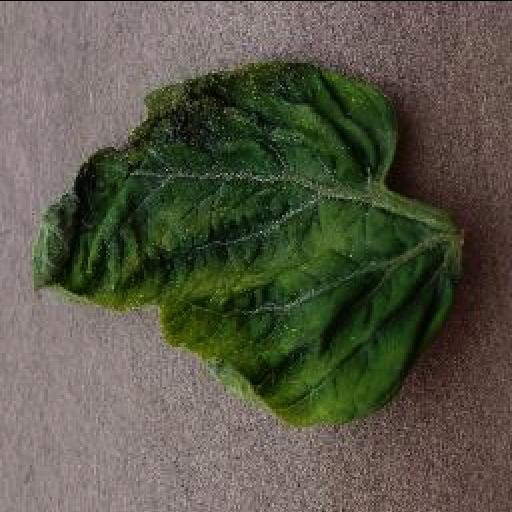disease_tomato: (30, 62, 464, 424)
